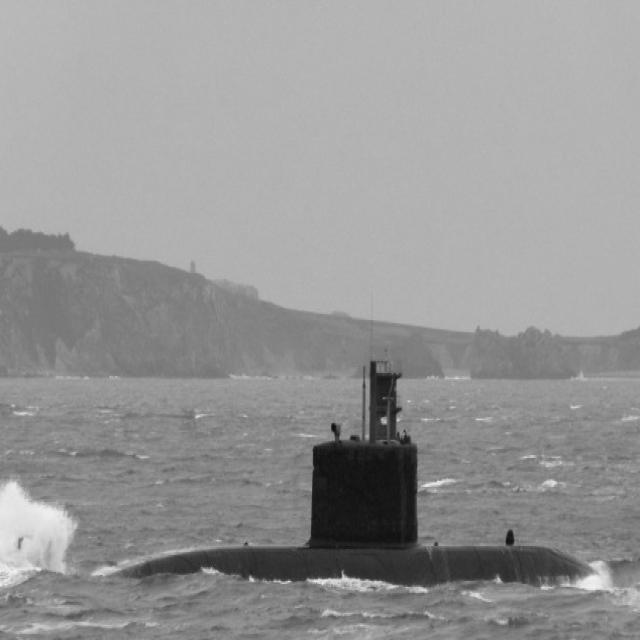submarine: (116, 349, 614, 578)
